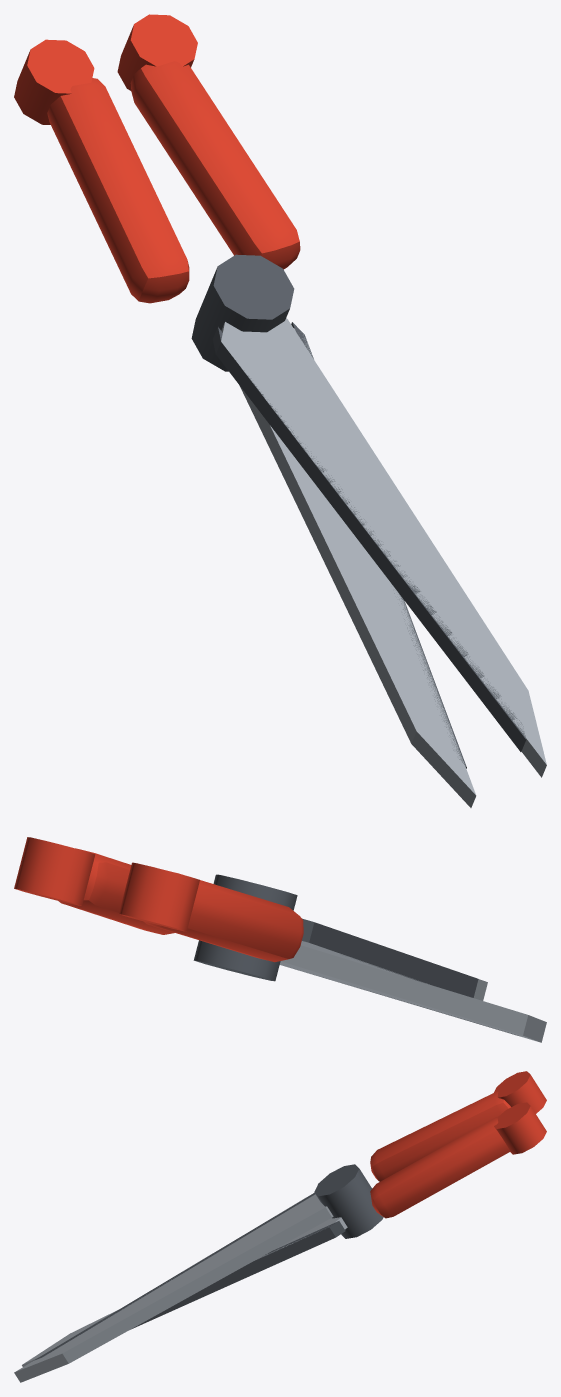
File: tool_shears.glb
3 views of the same model, one above another, from view 1: azimuth 30°, elevation 25°; view 2: azimuth 150°, elevation 25°; view 3: azimuth 270°, elevation 25° (orthographic). The views are drawn at different scales.
Parts seen in each view (by area): view 1: Tool; view 2: Tool; view 3: Tool.
Part boxes in pixels (x1,y1,x2,y2): Tool: (14, 14, 546, 807); Tool: (14, 837, 546, 1042); Tool: (14, 1071, 546, 1382).
Bounding box in the file's own units: 0.1087 × 0.299 × 0.49.
